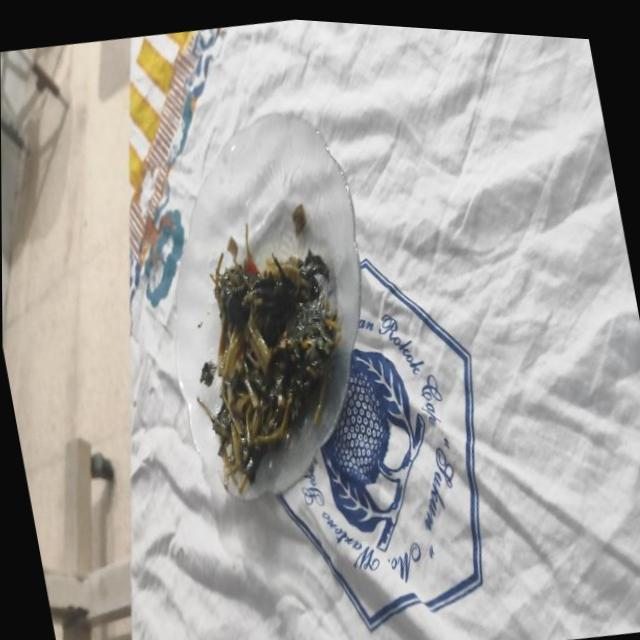tumis_kangkung: (197, 237, 341, 494)
